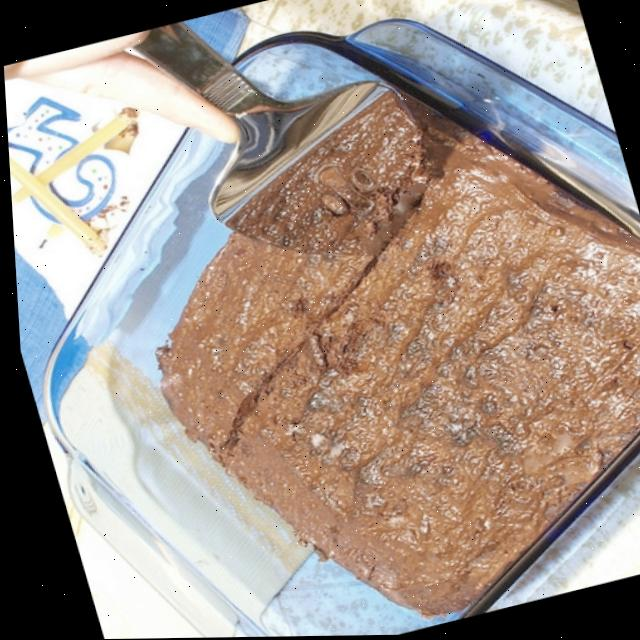蛋糕甜品: (4, 0, 640, 640)
